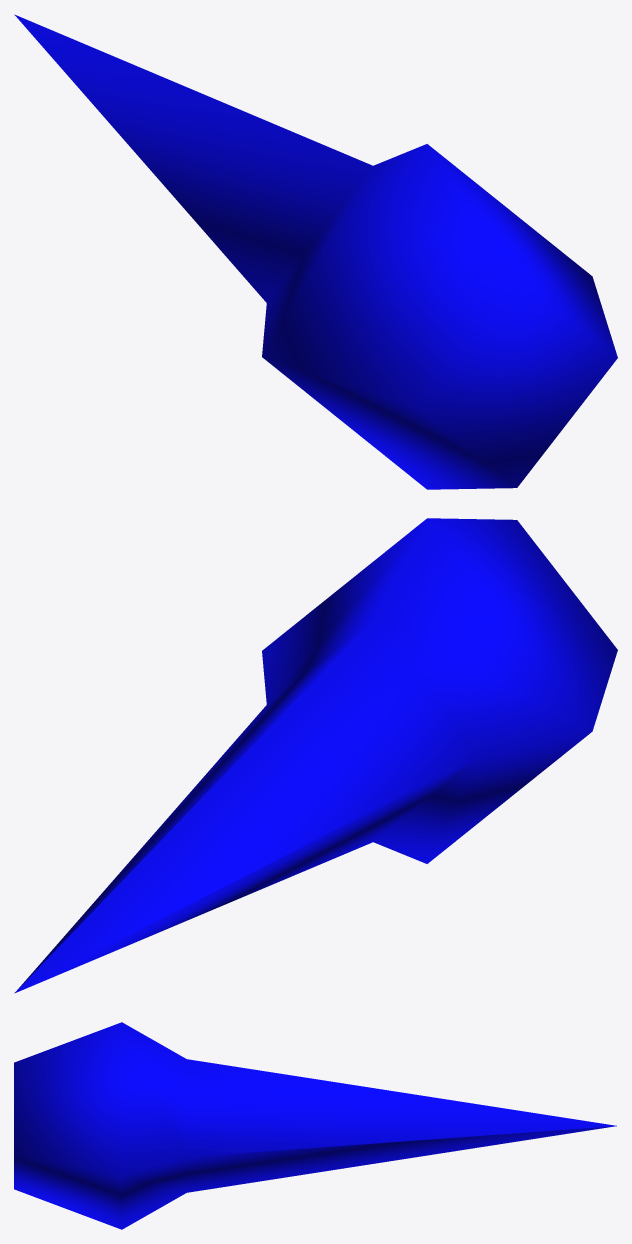
Rendered from pin_01_mockup.fbx.
3 views of the same model, one above another, from view 1: azimuth 30°, elevation 25°; view 2: azimuth 150°, elevation 25°; view 3: azimuth 270°, elevation 25° (orthographic). The views are drawn at different scales.
Visible parts, largest first — view 1: Plane.001; view 2: Plane.001; view 3: Plane.001.
Boxes of the visible parts, box(x1,y1,x2,y2) form: Plane.001: box(14, 14, 617, 489); Plane.001: box(14, 518, 617, 993); Plane.001: box(14, 1022, 616, 1229).
Size of the model in its own units: 0.0311 by 0.082 by 0.0311.
